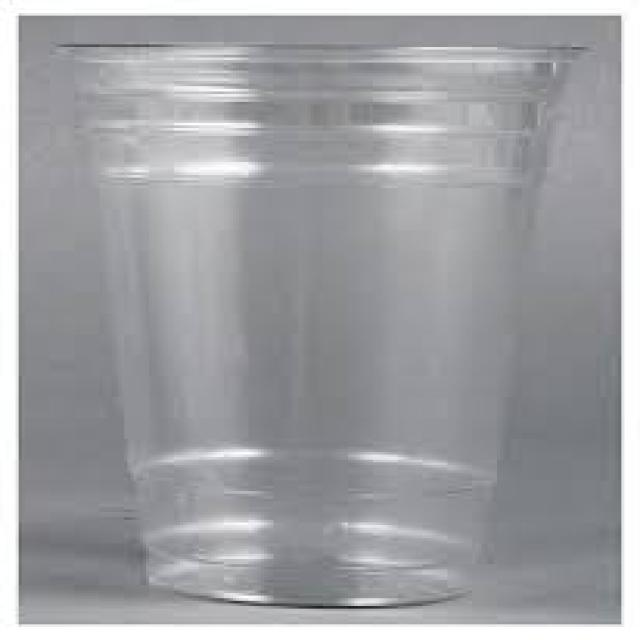cup: (45, 30, 607, 640)
